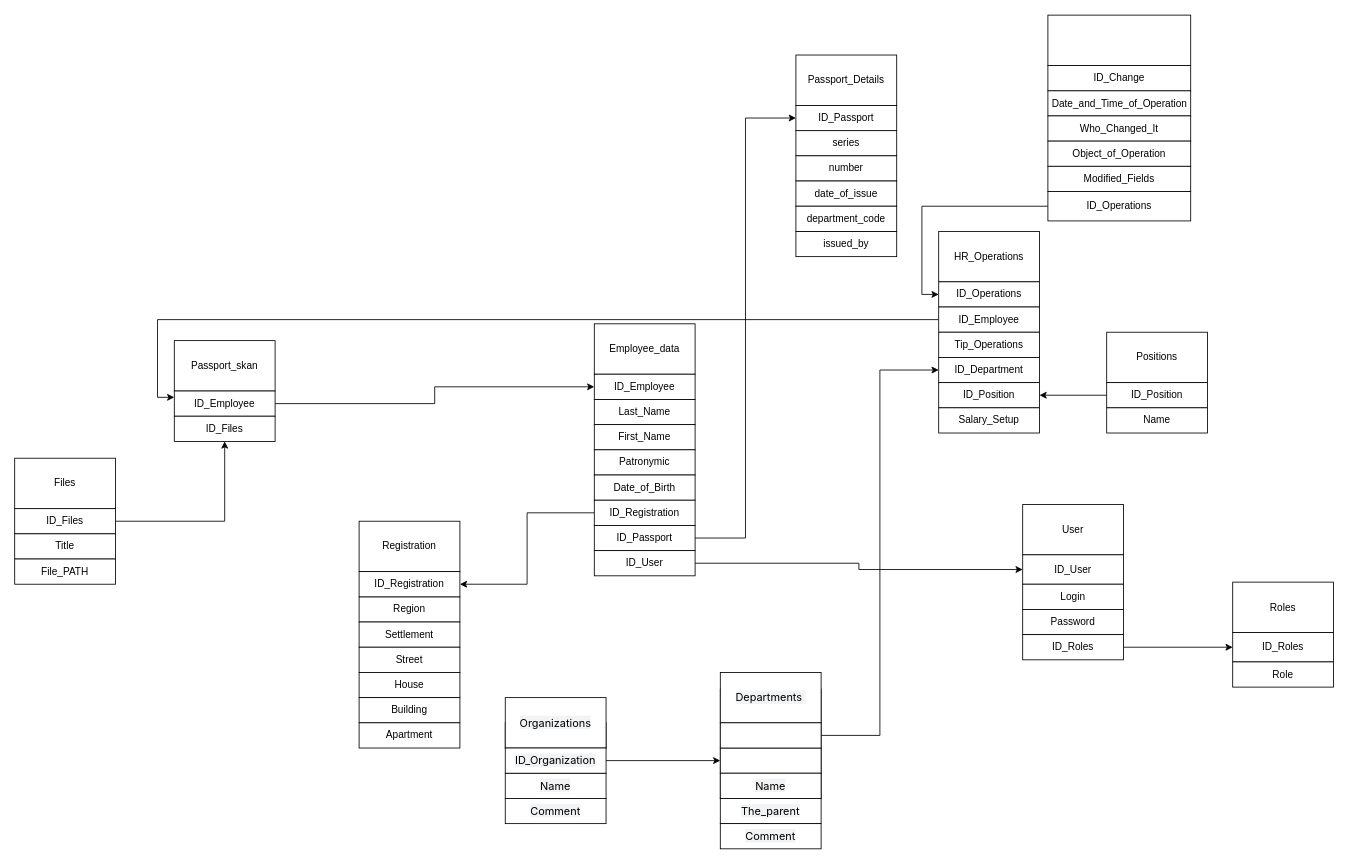
Some shapes in this 1348 by 864 pixel diagram are drawn without their labels. Here are the shapes that lost their labels. From the top down, the box of each, then its label:
(1047, 14, 1191, 66): Change_History
(719, 722, 821, 748): ID_ Department
(719, 747, 821, 773): ID_Organization
